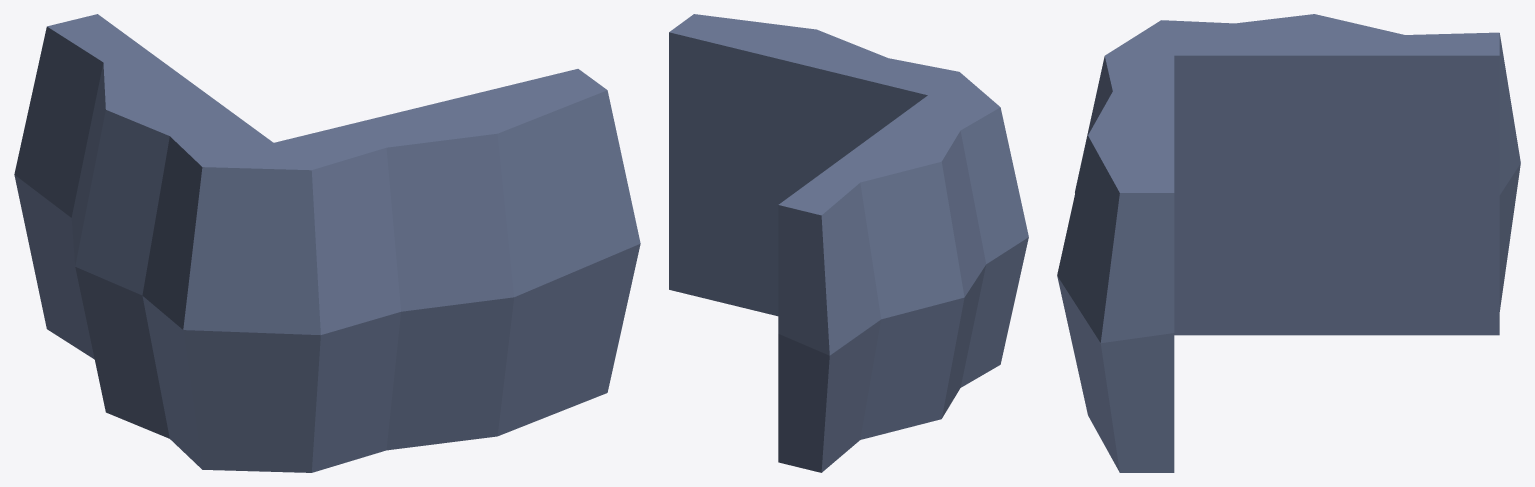
The model's file is muro inorganico 4.fbx.
3 views of the same model, side by side, from view 1: azimuth 30°, elevation 25°; view 2: azimuth 150°, elevation 25°; view 3: azimuth 270°, elevation 25° (orthographic). The views are drawn at different scales.
Parts seen in each view (by area): view 1: floor.107; view 2: floor.107; view 3: floor.107.
Boxes of the visible parts, left/top/right/bottom form: floor.107: left=14, top=14, right=640, bottom=472; floor.107: left=669, top=14, right=1028, bottom=472; floor.107: left=1057, top=14, right=1520, bottom=472.
Bounding box in the file's own units: 310 × 200 × 300.
